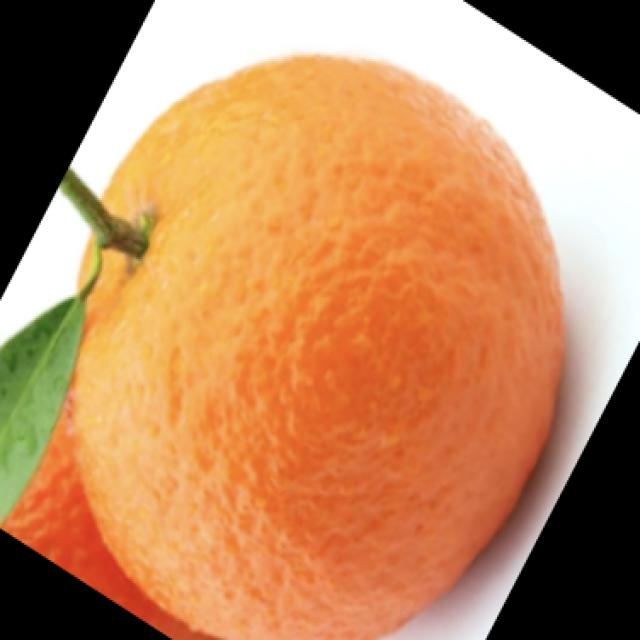fresh: (0, 47, 585, 640)
